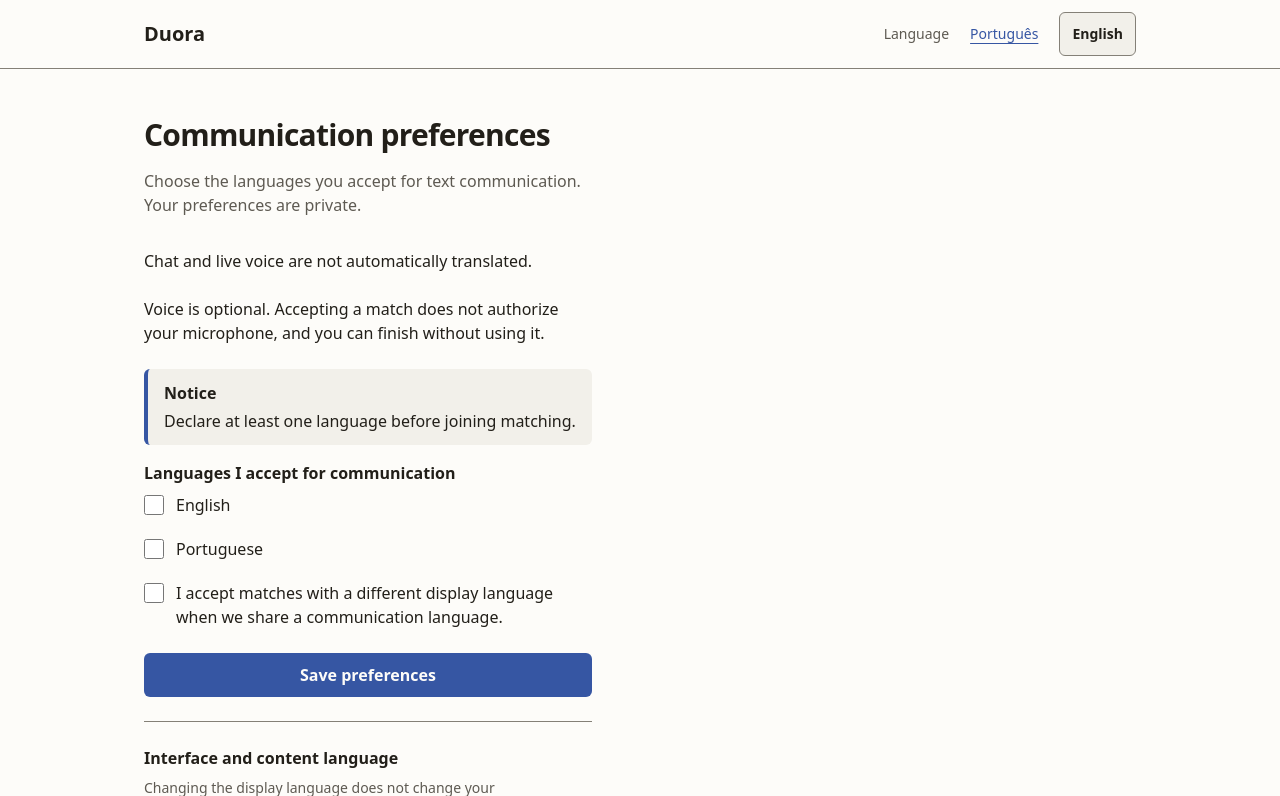
Test: loads the account display locale and persists header changes without declaring communication languages
Expected: the heading "Communication preferences" is shown, [144,117,550,153]
Click the button "Português": (1004, 34) [957,12,1051,56]
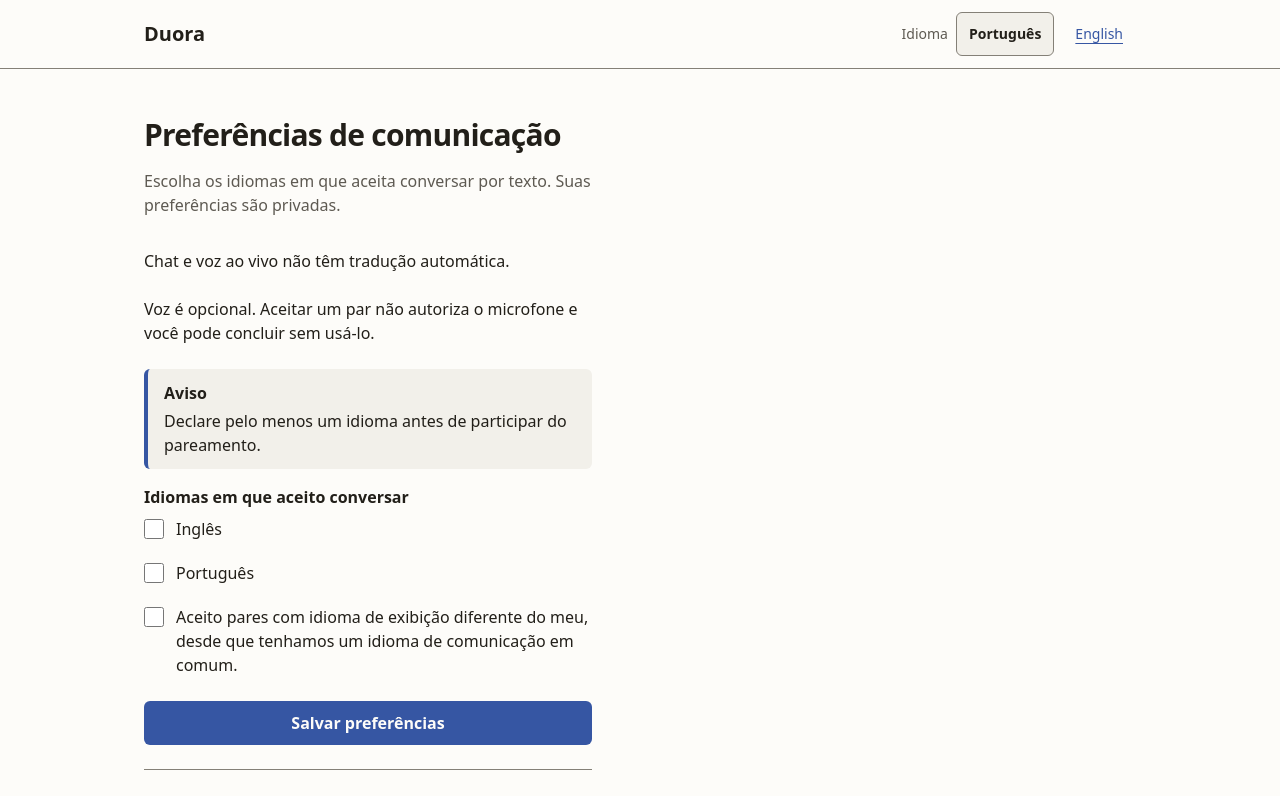
Expected: the heading "Preferências de comunicação" is shown, [144,117,561,153]
